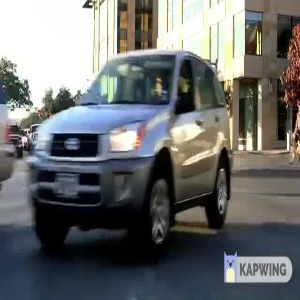suv: (25, 41, 245, 265)
